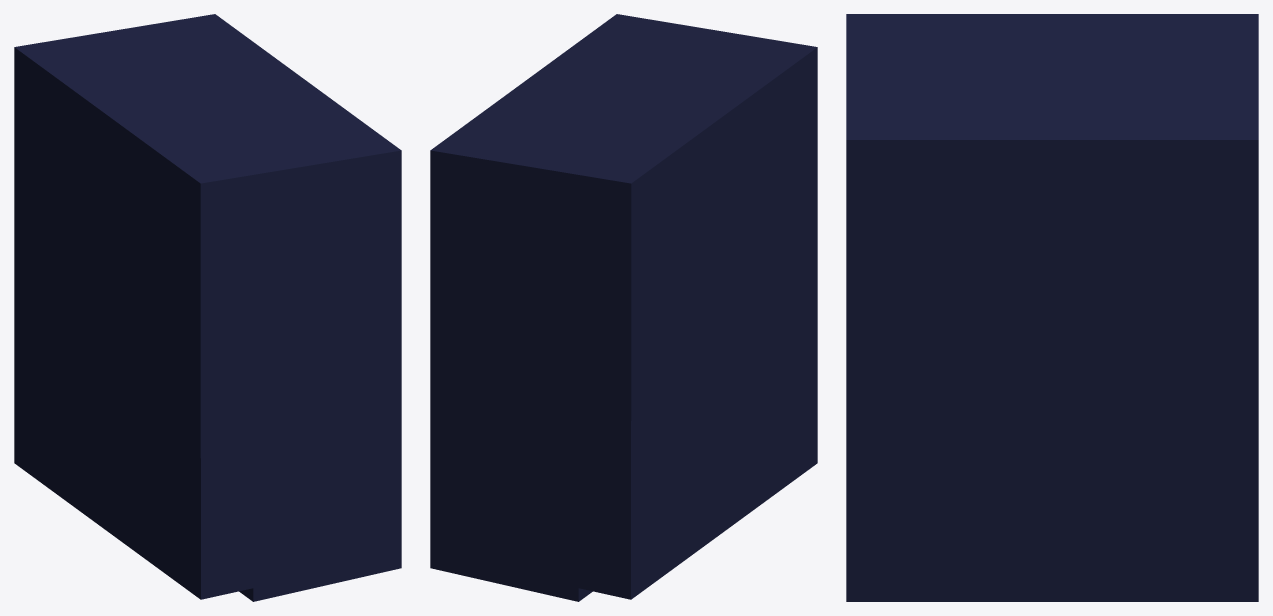
The model's file is Top Side Obstacle.fbx.
The picture shows the model from 3 angles, left to right: view 1: azimuth 30°, elevation 25°; view 2: azimuth 150°, elevation 25°; view 3: azimuth 270°, elevation 25°; orthographic projection. The views are drawn at different scales.
Parts seen in each view (by area): view 1: New HalfPipe.002; view 2: New HalfPipe.002; view 3: New HalfPipe.002.
Part boxes in pixels (left/top/right/bottom): New HalfPipe.002: left=14, top=14, right=401, bottom=601; New HalfPipe.002: left=430, top=14, right=817, bottom=601; New HalfPipe.002: left=846, top=14, right=1258, bottom=601.
Bounding box in the file's own units: 2.3 × 4.75 × 3.7.
